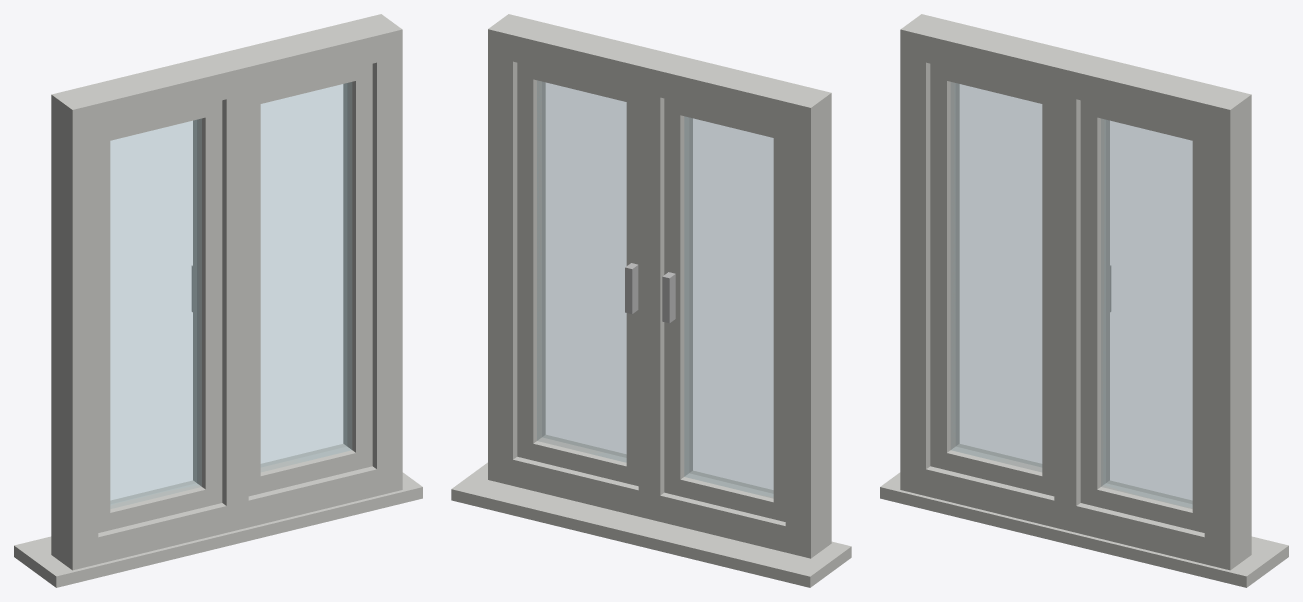
Rendered from opening.window.casement_900x1200.glb.
3 renders of one model, left to right at view 1: azimuth 30°, elevation 25°; view 2: azimuth 150°, elevation 25°; view 3: azimuth 330°, elevation 25°, orthographic. The views are drawn at different scales.
Parts seen in each view (by area): view 1: frame__paint_white, glazing__glass; view 2: frame__paint_white, glazing__glass, ironmongery__steel_stainless; view 3: frame__paint_white, glazing__glass.
Part boxes in pixels (x1,y1,x2,y2): frame__paint_white: (14,14,422,587); glazing__glass: (110,82,351,508); frame__paint_white: (451,14,851,587); glazing__glass: (537,80,773,497); ironmongery__steel_stainless: (625,263,675,323); frame__paint_white: (880,14,1288,587); glazing__glass: (951,82,1192,508).
Size of the model in its own units: 1 by 1.23 by 0.2.
